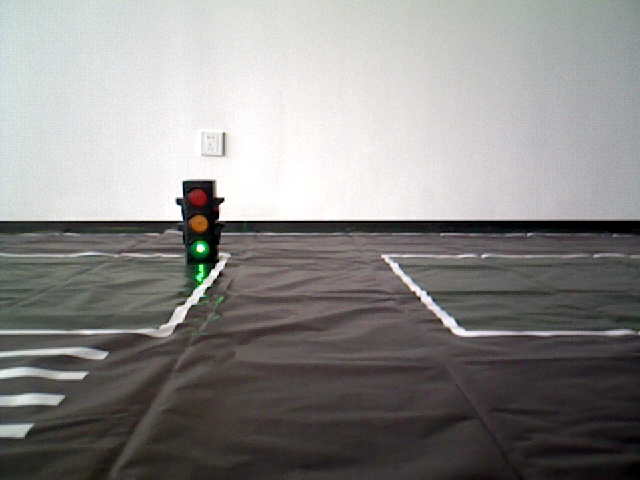green: (180, 185, 213, 260)
